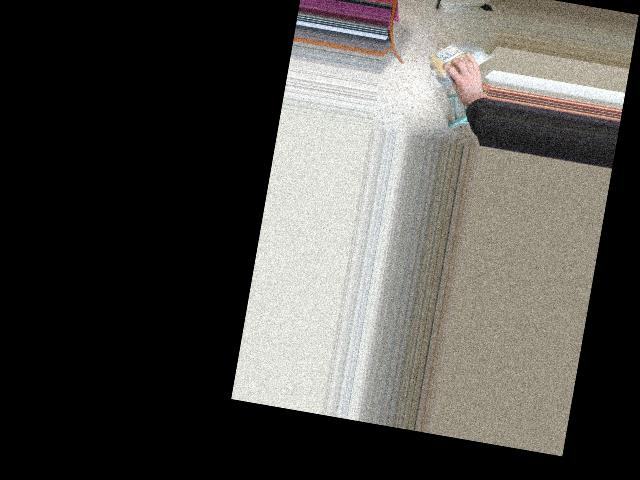cheese: (419, 38, 493, 79)
